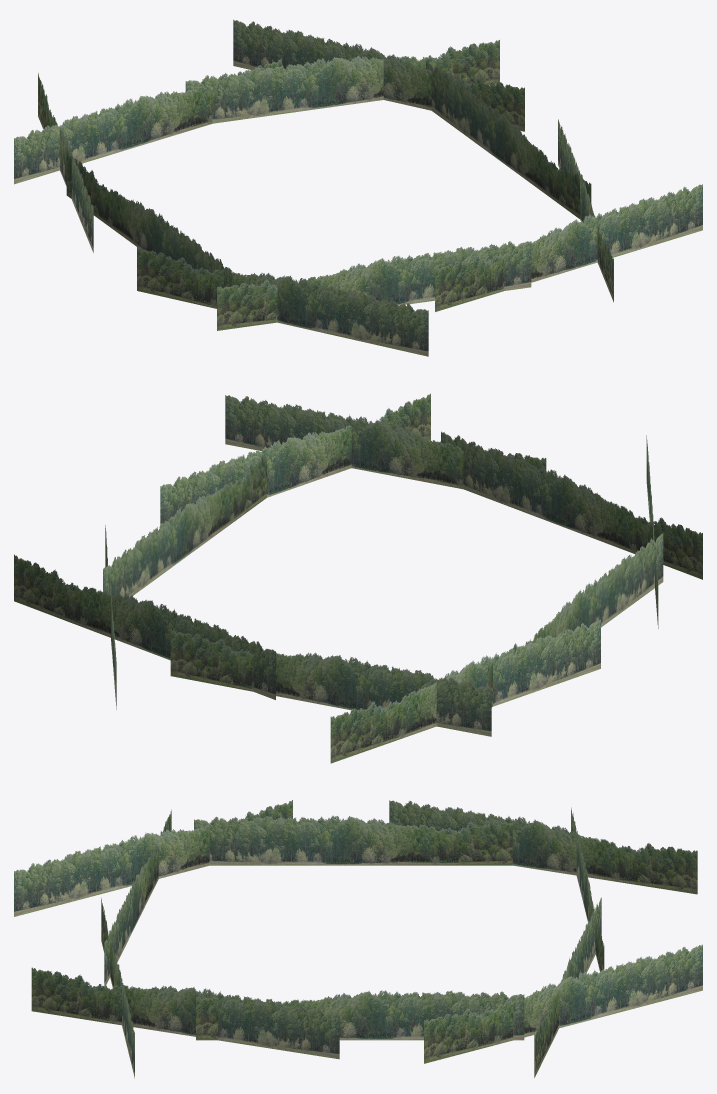
The model's file is SM_TreesBackdrop_01a.fbx.
3 renders of one model, top to bottom at view 1: azimuth 30°, elevation 25°; view 2: azimuth 150°, elevation 25°; view 3: azimuth 270°, elevation 25°, orthographic. The views are drawn at different scales.
Parts seen in each view (by area): view 1: SM_TreesBackdrop01a; view 2: SM_TreesBackdrop01a; view 3: SM_TreesBackdrop01a.
Boxes of the visible parts, left/top/right/bottom form: SM_TreesBackdrop01a: left=14, top=19, right=702, bottom=356; SM_TreesBackdrop01a: left=14, top=393, right=702, bottom=763; SM_TreesBackdrop01a: left=14, top=800, right=702, bottom=1078.
Size of the model in its own units: 697 by 70.87 by 860.
